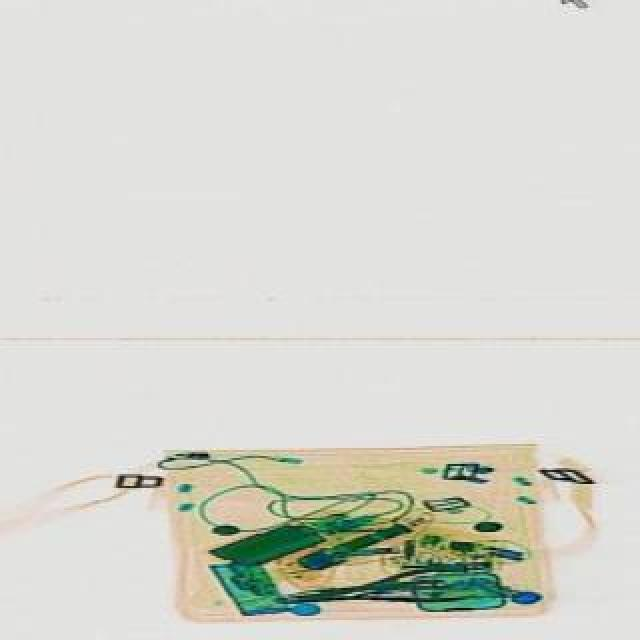wrench: (266, 558, 466, 618)
